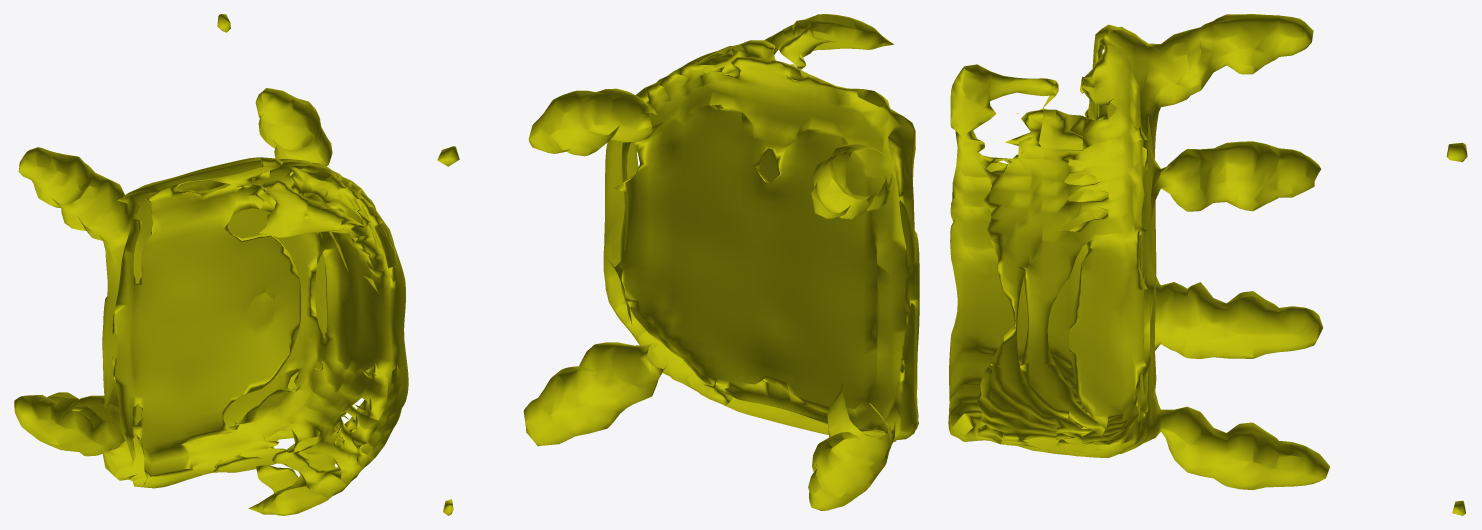
3 views of the same model, side by side, from view 1: azimuth 30°, elevation 25°; view 2: azimuth 150°, elevation 25°; view 3: azimuth 270°, elevation 25° (orthographic). The views are drawn at different scales.
Parts seen in each view (by area): view 1: world; view 2: world; view 3: world.
Part boxes in pixels (<box>): world: <box>14,14,408,515</box>; world: <box>437,14,919,515</box>; world: <box>948,14,1467,515</box>.
Bounding box in the file's own units: 29.75 × 31.38 × 39.57.
